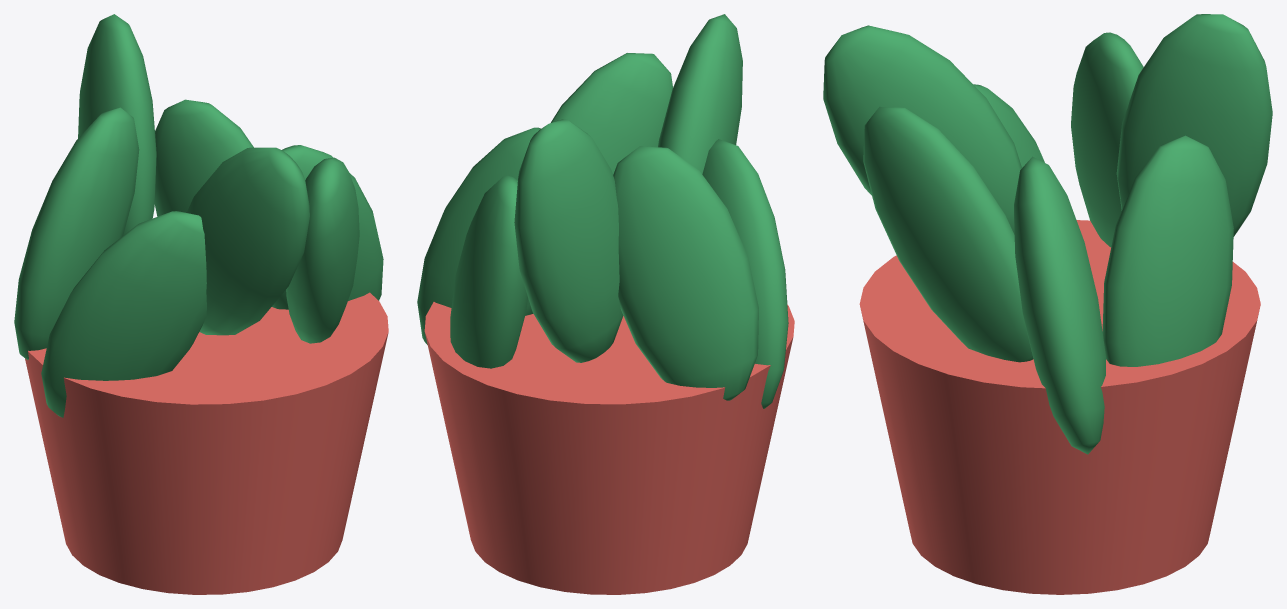
Rendered from decor-plant.glb.
3 views of the same model, side by side, from view 1: azimuth 30°, elevation 25°; view 2: azimuth 150°, elevation 25°; view 3: azimuth 270°, elevation 25° (orthographic). The views are drawn at different scales.
Visible parts, largest first — view 1: POT, LEAF_3, LEAF_2, LEAF_4, LEAF_1, LEAF_5, LEAF_6, LEAF_0; view 2: POT, LEAF_4, LEAF_5, LEAF_6, LEAF_3, LEAF_2, LEAF_1, LEAF_0; view 3: POT, LEAF_1, LEAF_6, LEAF_5, LEAF_0, LEAF_2, LEAF_4, LEAF_3.
Part boxes in pixels (x1=…): POT: x1=25, y1=292, x2=388, y2=594; LEAF_3: x1=41, y1=211, x2=206, y2=417; LEAF_2: x1=186, y1=147, x2=309, y2=335; LEAF_4: x1=14, y1=107, x2=139, y2=359; LEAF_1: x1=286, y1=157, x2=359, y2=343; LEAF_5: x1=78, y1=14, x2=156, y2=235; LEAF_6: x1=154, y1=99, x2=253, y2=216; LEAF_0: x1=272, y1=145, x2=383, y2=309; POT: x1=424, y1=302, x2=794, y2=594; LEAF_4: x1=613, y1=146, x2=758, y2=400; LEAF_5: x1=514, y1=119, x2=623, y2=362; LEAF_6: x1=450, y1=175, x2=527, y2=368; LEAF_3: x1=702, y1=139, x2=788, y2=408; LEAF_2: x1=658, y1=14, x2=742, y2=173; LEAF_1: x1=551, y1=53, x2=672, y2=174; LEAF_0: x1=417, y1=127, x2=540, y2=344; POT: x1=859, y1=220, x2=1260, y2=594; LEAF_1: x1=863, y1=106, x2=1033, y2=362; LEAF_6: x1=1102, y1=135, x2=1233, y2=366; LEAF_5: x1=1116, y1=14, x2=1272, y2=236; LEAF_0: x1=1014, y1=156, x2=1105, y2=454; LEAF_2: x1=823, y1=25, x2=1021, y2=233; LEAF_4: x1=1071, y1=32, x2=1143, y2=247; LEAF_3: x1=973, y1=84, x2=1044, y2=167.
Bounding box in the file's own units: 0.3483 × 0.4484 × 0.3586.
